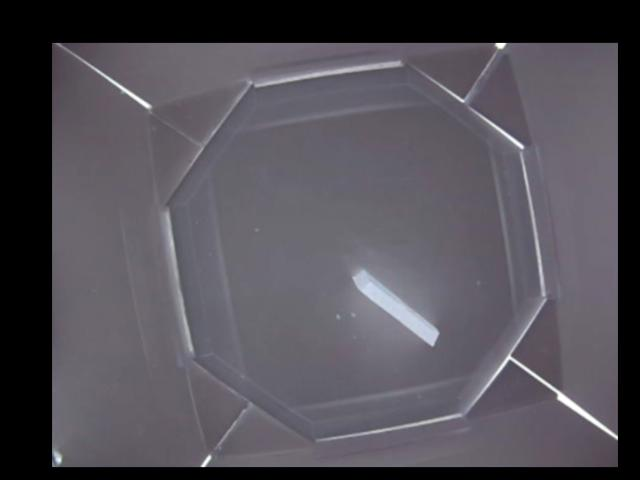China: (354, 272, 434, 344)
